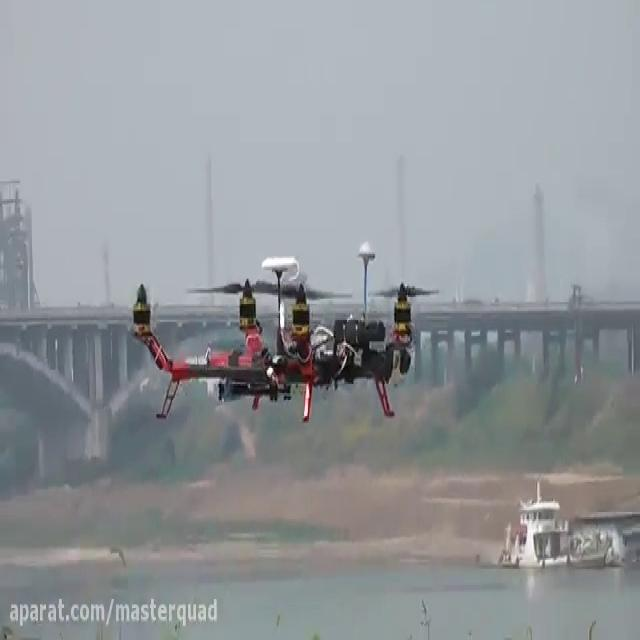drone: (120, 238, 444, 423)
